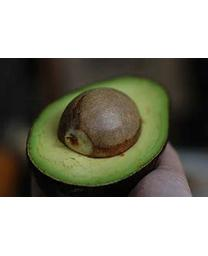avocado: (23, 71, 173, 195)
